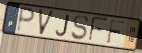F: (87, 16, 109, 44), (106, 19, 127, 46)
J: (55, 14, 70, 38)
P: (15, 5, 37, 35)
S: (70, 15, 90, 42)
V: (37, 8, 56, 37)
